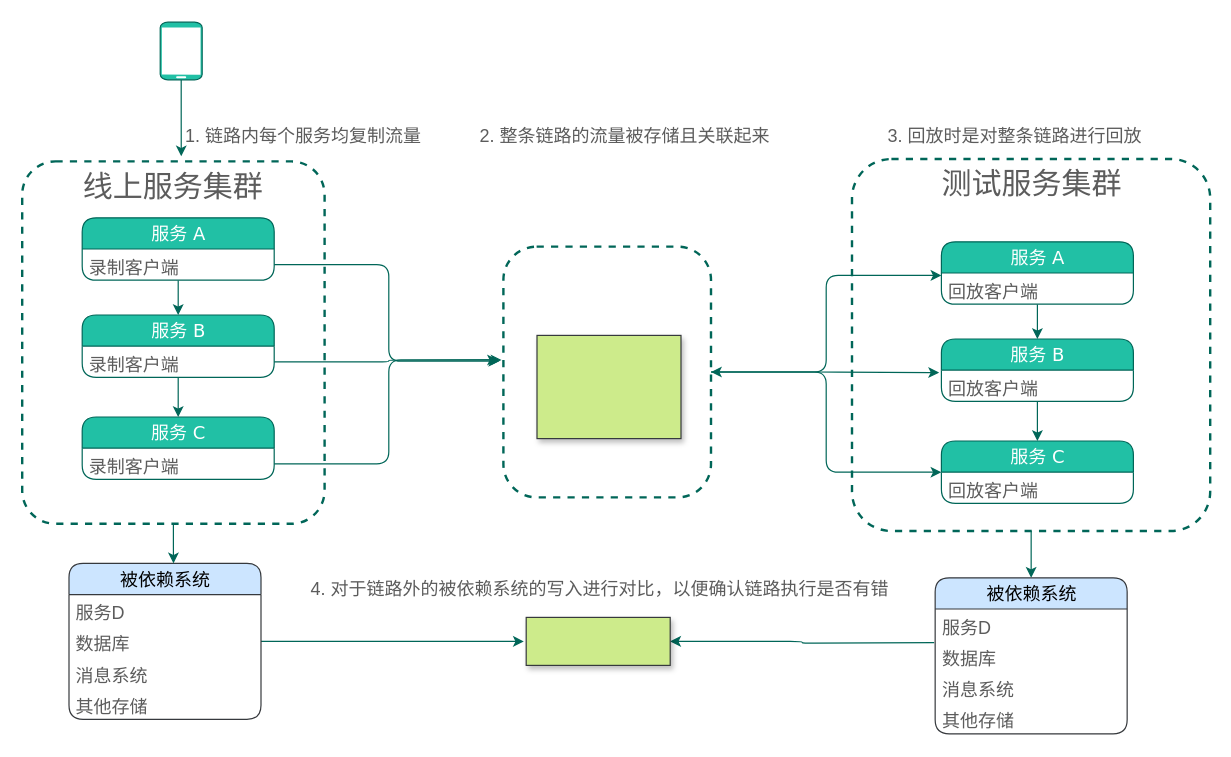
The diagram is 1231 pixels wide and 757 high, and some of its shapes have lost their labels. The centre of each missing label's shape, as x and y in pixels:
对比服务: (598,642)
流量存储服务: (609,388)
